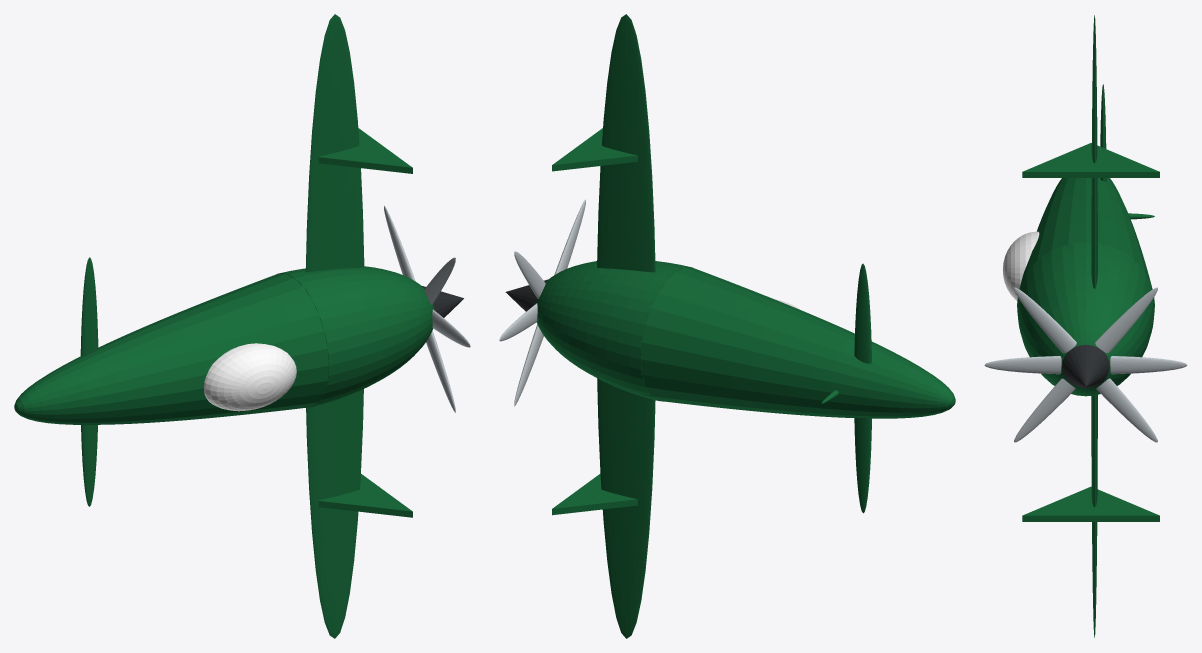
The model's file is tinker.obj.
The picture shows the model from 3 angles, left to right: view 1: azimuth 30°, elevation 25°; view 2: azimuth 150°, elevation 25°; view 3: azimuth 270°, elevation 25°; orthographic projection.
Parts seen in each view (by area): view 1: group_0_1206582, group_0_16448250, group_0_12568524; view 2: group_0_1206582, group_0_12568524; view 3: group_0_1206582, group_0_12568524, group_0_2829873, group_0_16448250.
Part boxes in pixels (bbox=[...]): group_0_1206582: bbox=[14, 14, 434, 638]; group_0_16448250: bbox=[204, 343, 296, 411]; group_0_12568524: bbox=[384, 206, 470, 412]; group_0_1206582: bbox=[535, 14, 955, 638]; group_0_12568524: bbox=[499, 199, 585, 406]; group_0_1206582: bbox=[1017, 15, 1159, 637]; group_0_12568524: bbox=[984, 287, 1187, 442]; group_0_2829873: bbox=[1062, 344, 1109, 388]; group_0_16448250: bbox=[1003, 231, 1039, 300].
Size of the model in its own units: 75.24 by 100 by 29.5.
